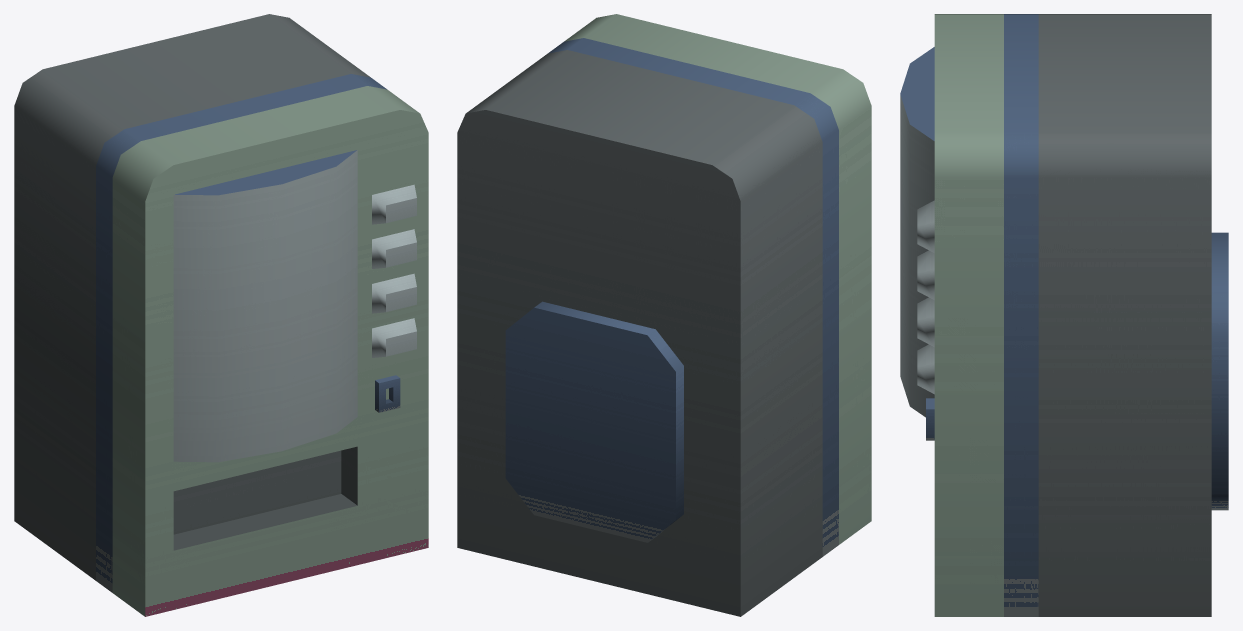
File: mini-arcade__vending-machine.glb
3 views of the same model, side by side, from view 1: azimuth 30°, elevation 25°; view 2: azimuth 150°, elevation 25°; view 3: azimuth 270°, elevation 25° (orthographic). The views are drawn at different scales.
Parts seen in each view (by area): view 1: vending-machine; view 2: vending-machine; view 3: vending-machine.
Boxes of the visible parts, left/top/right/bottom form: vending-machine: left=14, top=14, right=428, bottom=616; vending-machine: left=457, top=14, right=871, bottom=616; vending-machine: left=900, top=14, right=1228, bottom=616.
Bounding box in the file's own units: 4.33 × 6.5 × 4.12.
Materials: 1 (1 with a texture image).
